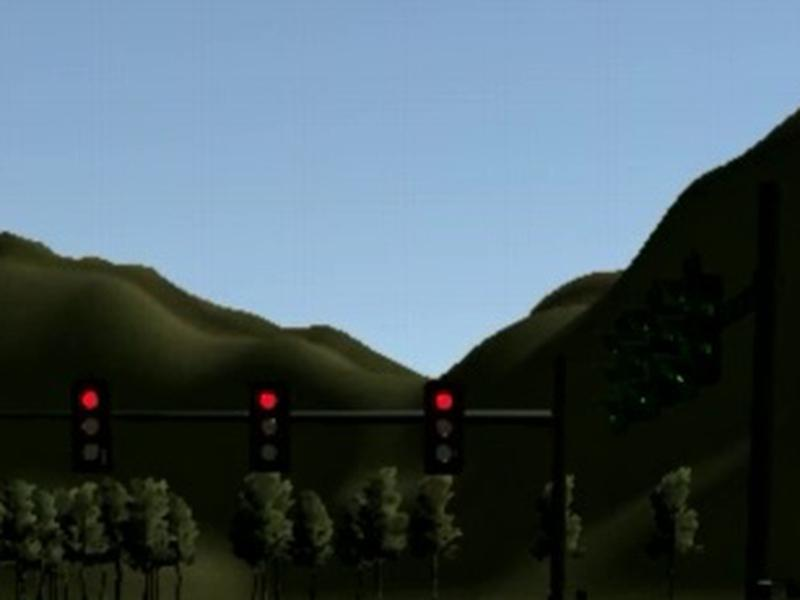Red: (424, 380, 467, 475), (69, 382, 114, 472), (247, 381, 290, 472)
